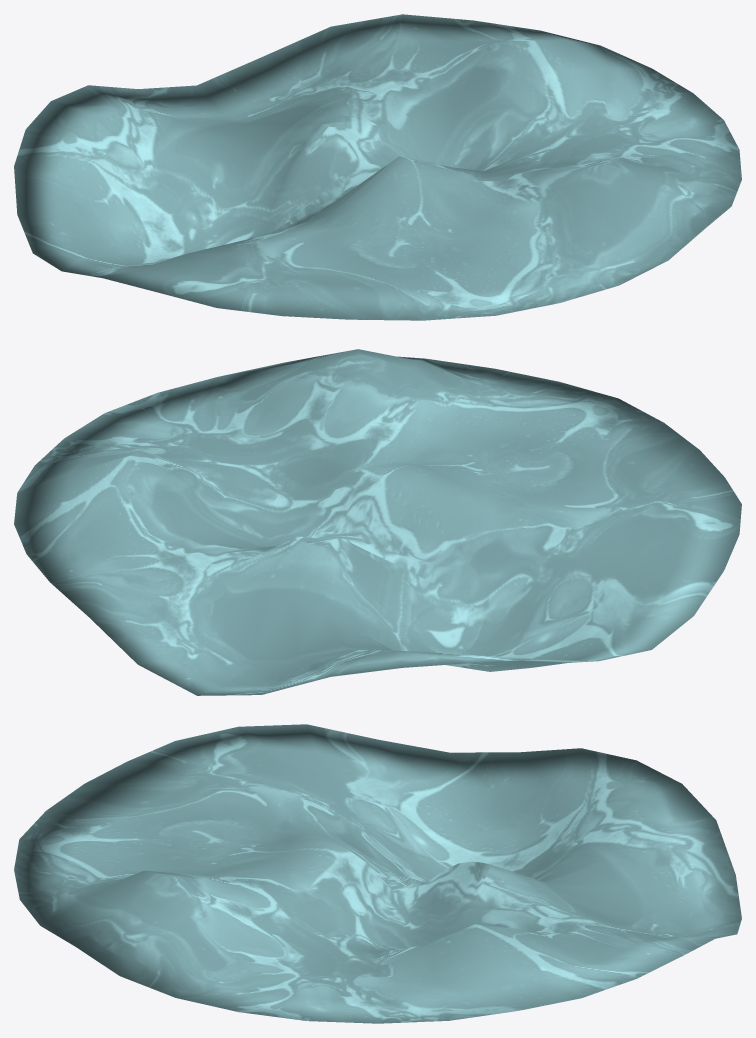
Rendered from BucketWater.fbx.
3 renders of one model, top to bottom at view 1: azimuth 30°, elevation 25°; view 2: azimuth 150°, elevation 25°; view 3: azimuth 270°, elevation 25°, orthographic.
Visible parts, largest first — view 1: WaterBucket; view 2: WaterBucket; view 3: WaterBucket.
Boxes of the visible parts, box(x1,y1,x2,y2) form: WaterBucket: box(14, 14, 741, 320); WaterBucket: box(14, 349, 741, 695); WaterBucket: box(14, 724, 741, 1023).
Size of the model in its own units: 38.07 by 7.79 by 37.99.
Materials: 1 (1 with a texture image).
